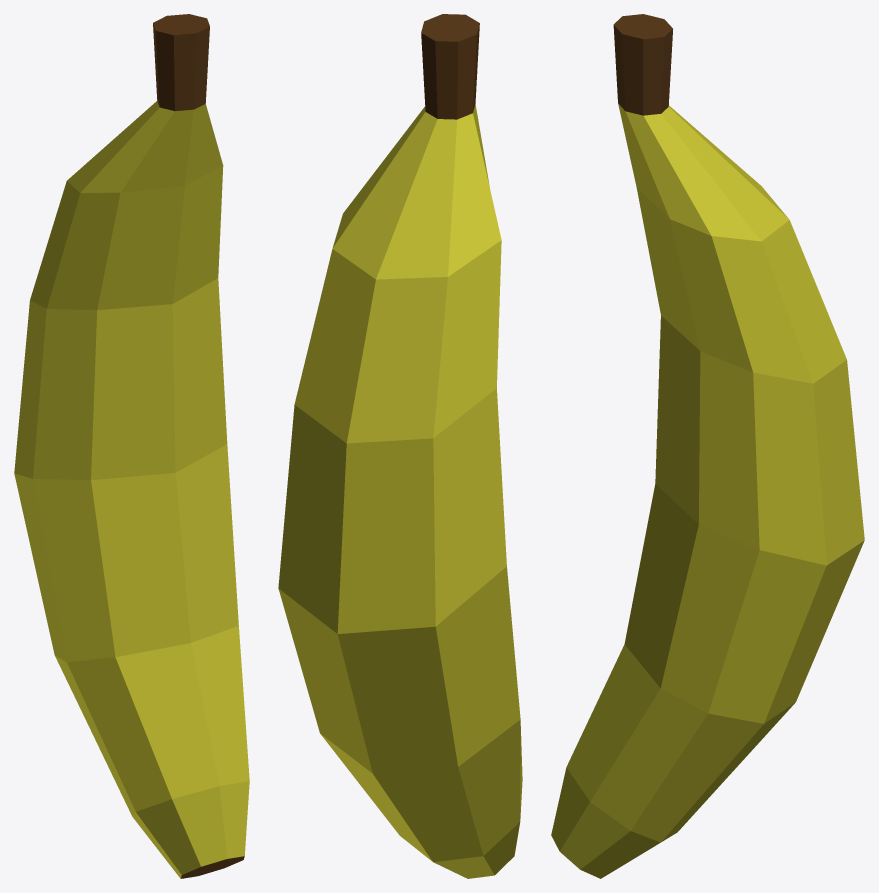
The model's file is Banana.glb.
3 renders of one model, left to right at view 1: azimuth 30°, elevation 25°; view 2: azimuth 150°, elevation 25°; view 3: azimuth 270°, elevation 25°, orthographic. The views are drawn at different scales.
Parts seen in each view (by area): view 1: Banana; view 2: Banana; view 3: Banana.
Boxes of the visible parts, box(x1,y1,x2,y2) form: Banana: box(14, 14, 249, 878); Banana: box(278, 14, 522, 878); Banana: box(551, 14, 864, 878).
Bounding box in the file's own units: 0.0355 × 0.1447 × 0.0484.
